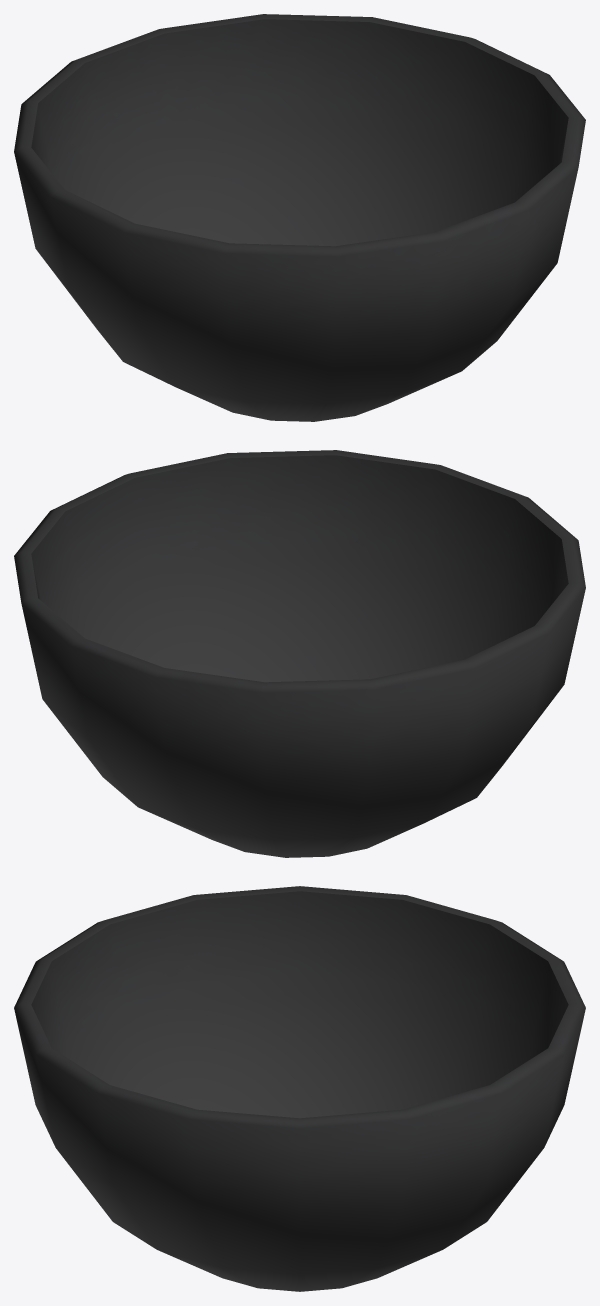
File: MetalBowl.fbx
3 renders of one model, top to bottom at view 1: azimuth 30°, elevation 25°; view 2: azimuth 150°, elevation 25°; view 3: azimuth 270°, elevation 25°, orthographic.
Parts seen in each view (by area): view 1: MetalBowl; view 2: MetalBowl; view 3: MetalBowl.
Part boxes in pixels (x1,y1,x2,y2): MetalBowl: (14, 14, 585, 421); MetalBowl: (14, 450, 585, 857); MetalBowl: (14, 886, 585, 1291).
Size of the model in its own units: 32.01 by 15.39 by 32.01.
